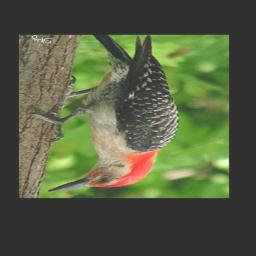Woodpecker: (25, 34, 180, 192)
